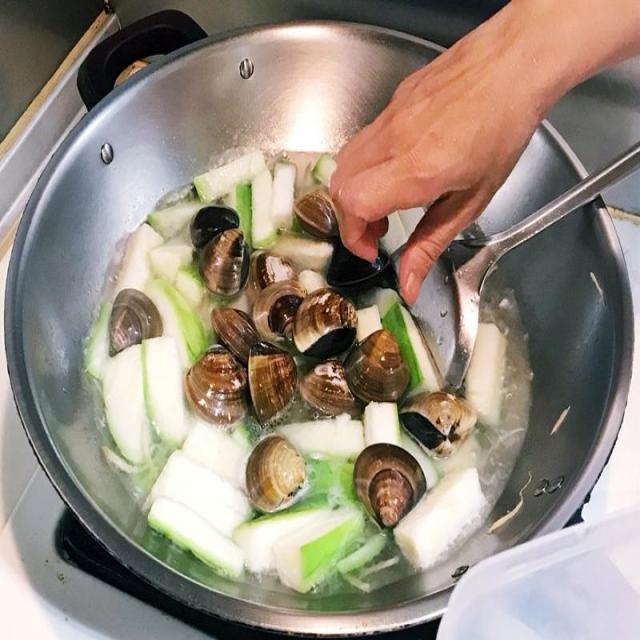Wet: (131, 134, 400, 574)
